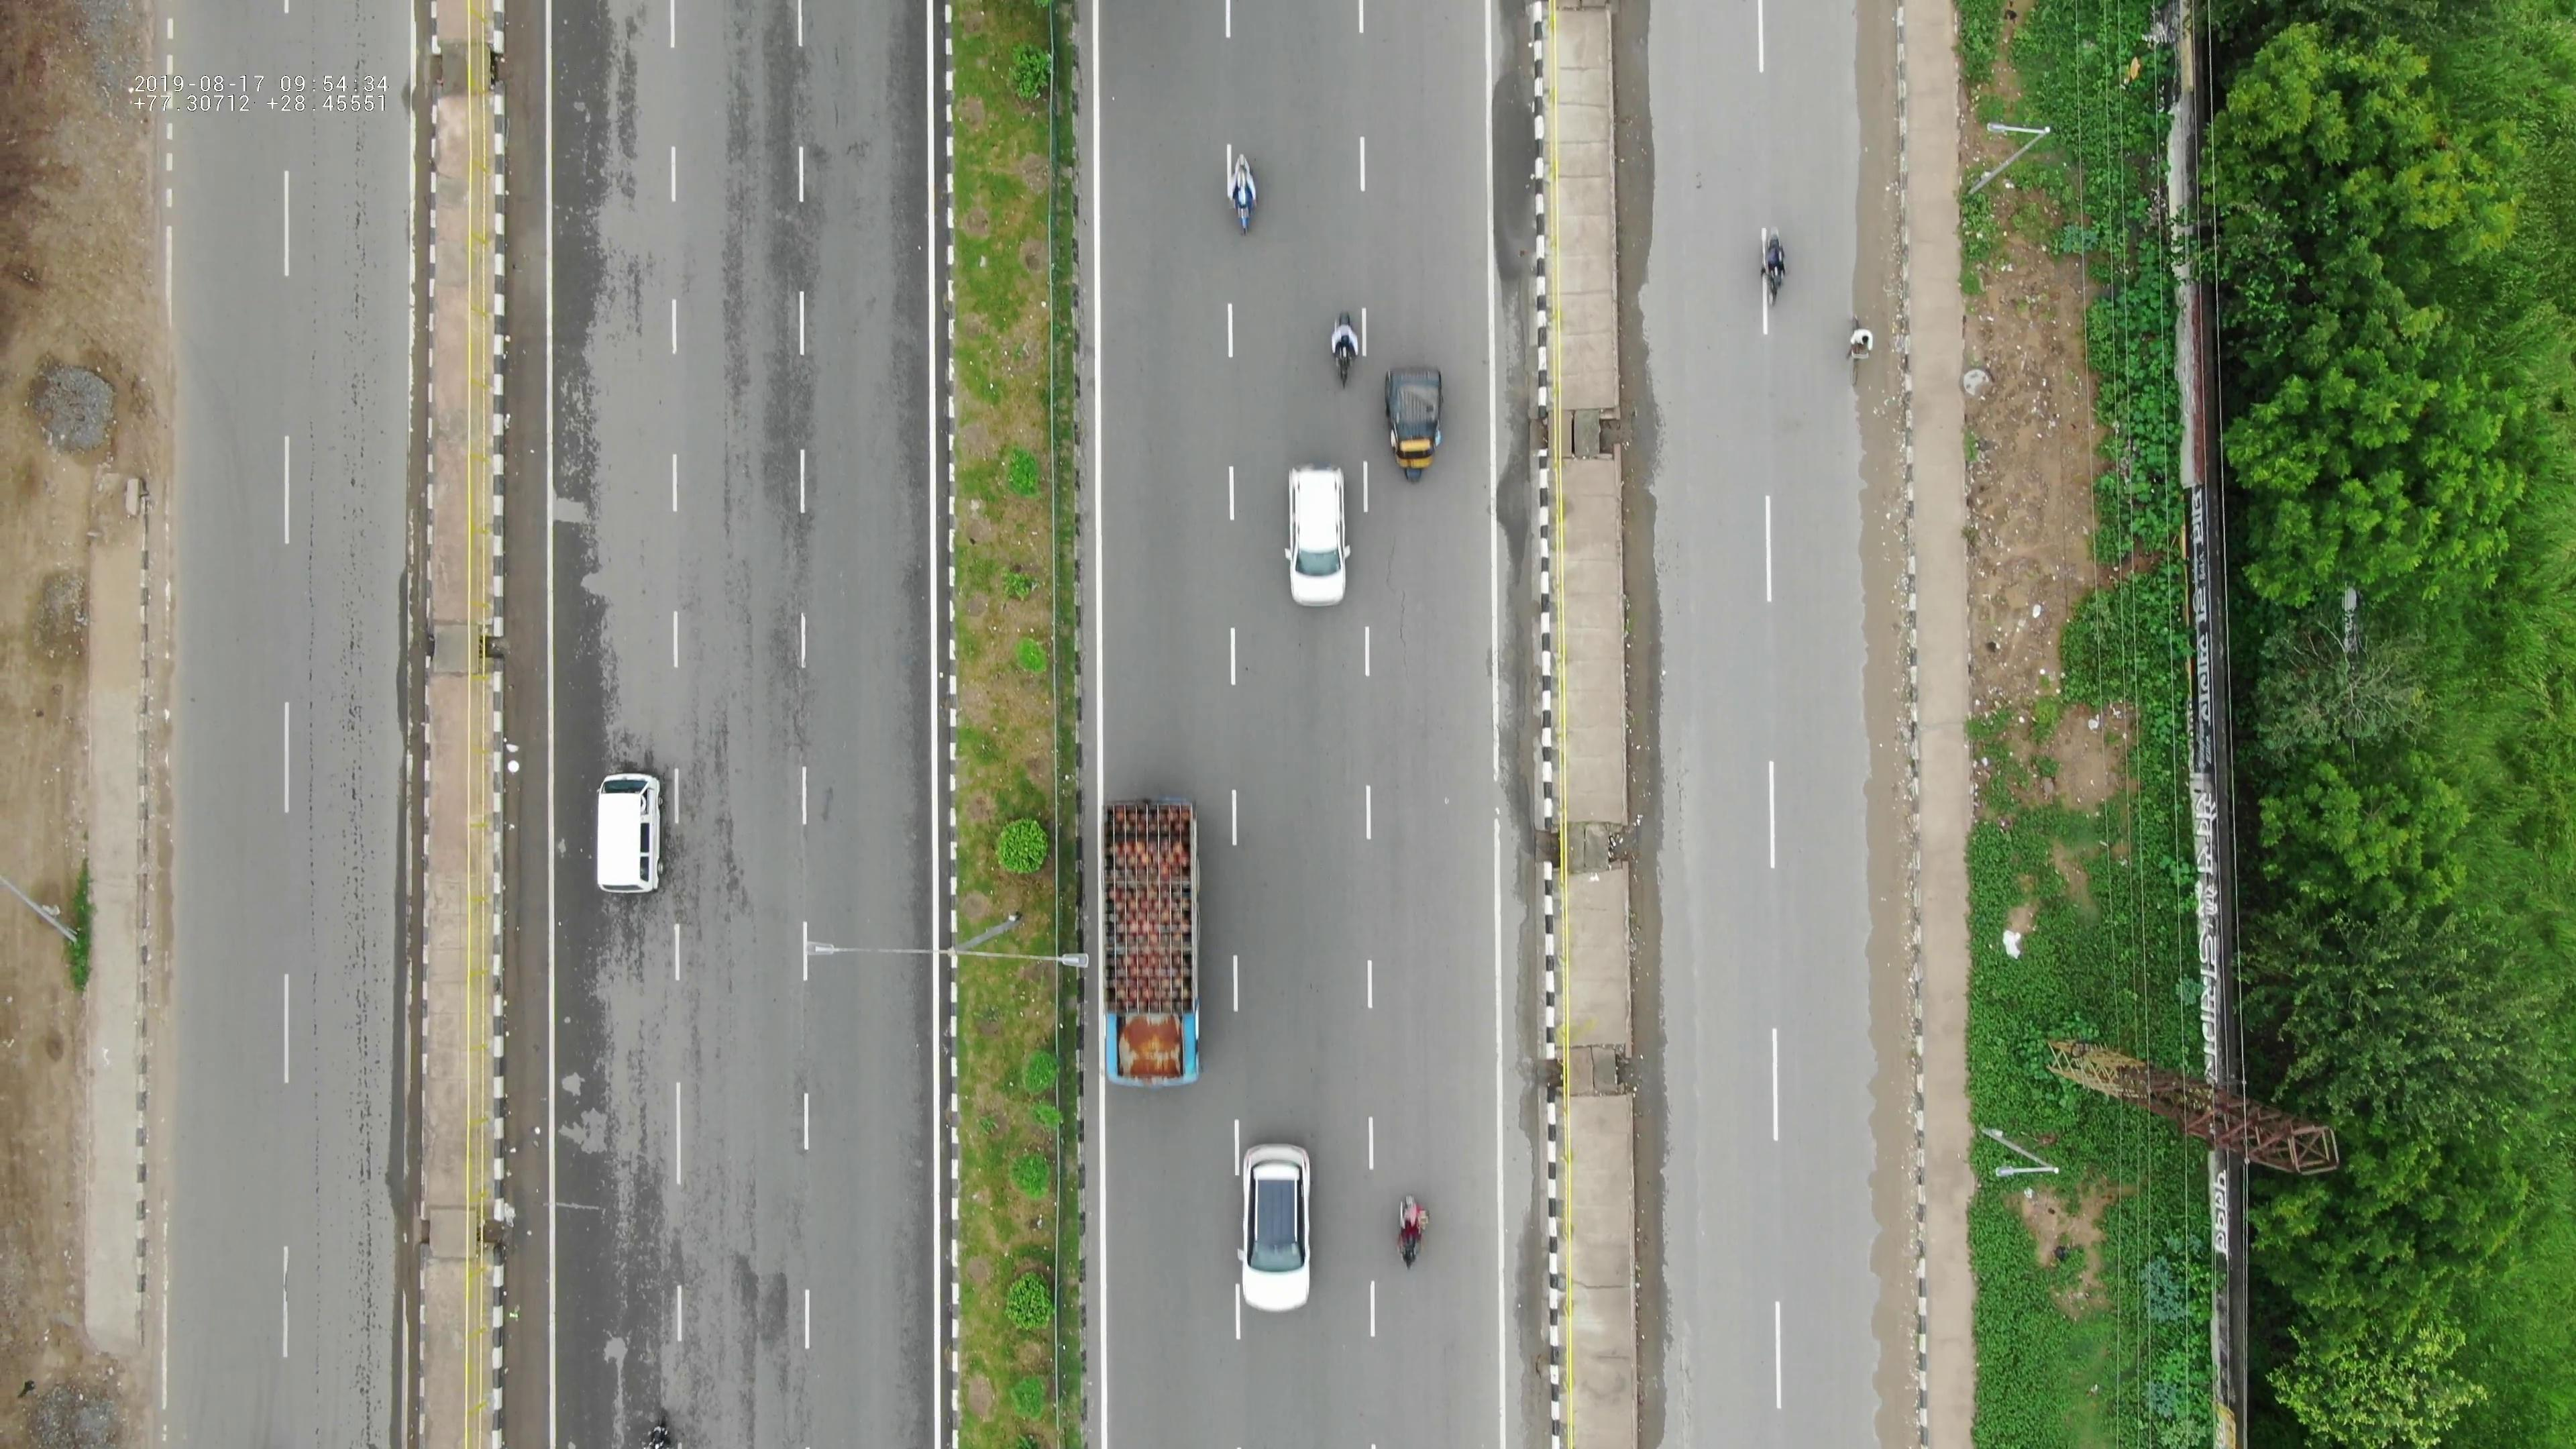Muddy_road: (1849, 402, 1918, 1021), (1859, 1040, 1928, 1440), (1851, 7, 1905, 301)
